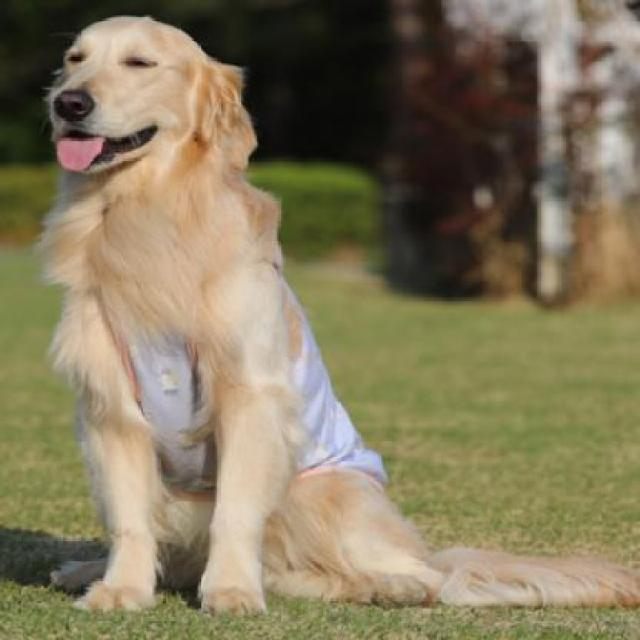Dog: (26, 16, 639, 624)
